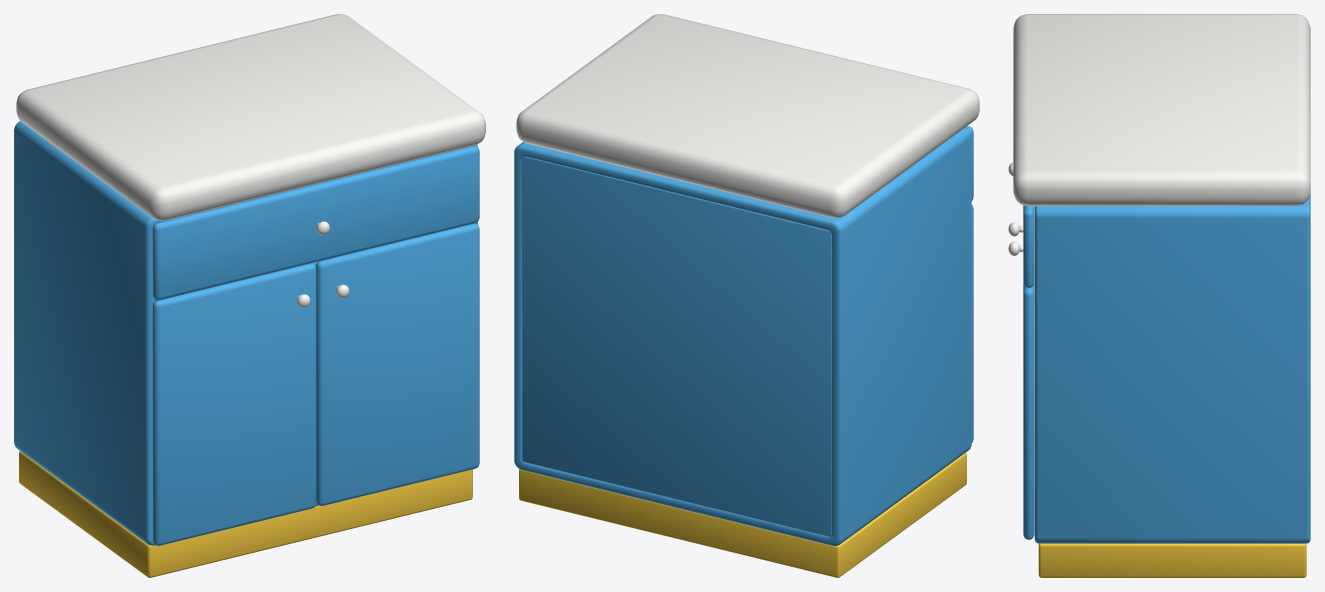
File: armario_cozinha_base_2portas_verde_azul.glb
The picture shows the model from 3 angles, left to right: view 1: azimuth 30°, elevation 25°; view 2: azimuth 150°, elevation 25°; view 3: azimuth 270°, elevation 25°; orthographic projection. The views are drawn at different scales.
Visible parts, largest first — view 1: armario_cozinha_base_2portas_verde_azul, porta_1, porta_2, gaveta_1; view 2: armario_cozinha_base_2portas_verde_azul, porta_1; view 3: armario_cozinha_base_2portas_verde_azul, porta_2, gaveta_1.
Part boxes in pixels (<box>): armario_cozinha_base_2portas_verde_azul: <box>14,14,485,577</box>; porta_1: <box>152,263,316,545</box>; porta_2: <box>316,223,479,505</box>; gaveta_1: <box>152,146,479,299</box>; armario_cozinha_base_2portas_verde_azul: <box>514,14,979,577</box>; porta_1: <box>971,204,973,442</box>; armario_cozinha_base_2portas_verde_azul: <box>1013,14,1310,577</box>; porta_2: <box>1008,241,1034,539</box>; gaveta_1: <box>1008,162,1034,287</box>.
Bounding box in the file's own units: 0.798 × 0.9 × 0.609.
1 material, 1 textured.
